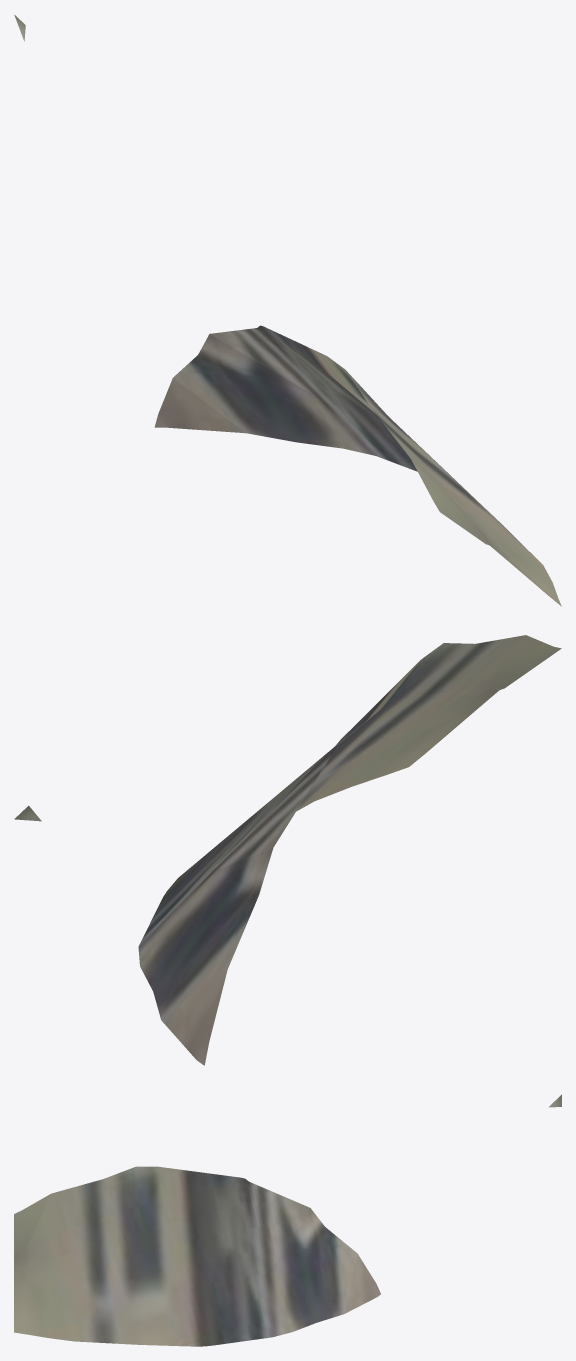
The model's file is Tile_+003_+004_L20_000120.glb.
The picture shows the model from 3 angles, top to bottom: view 1: azimuth 30°, elevation 25°; view 2: azimuth 150°, elevation 25°; view 3: azimuth 270°, elevation 25°; orthographic projection. The views are drawn at different scales.
Visible parts, largest first — view 1: rtc; view 2: rtc; view 3: rtc.
Part boxes in pixels (bbox=[...]): rtc: bbox=[14, 14, 561, 606]; rtc: bbox=[14, 635, 561, 1065]; rtc: bbox=[14, 1094, 561, 1346].
Size of the model in its own units: 5.73 by 10.17 by 25.25.
1 material, 1 textured.
